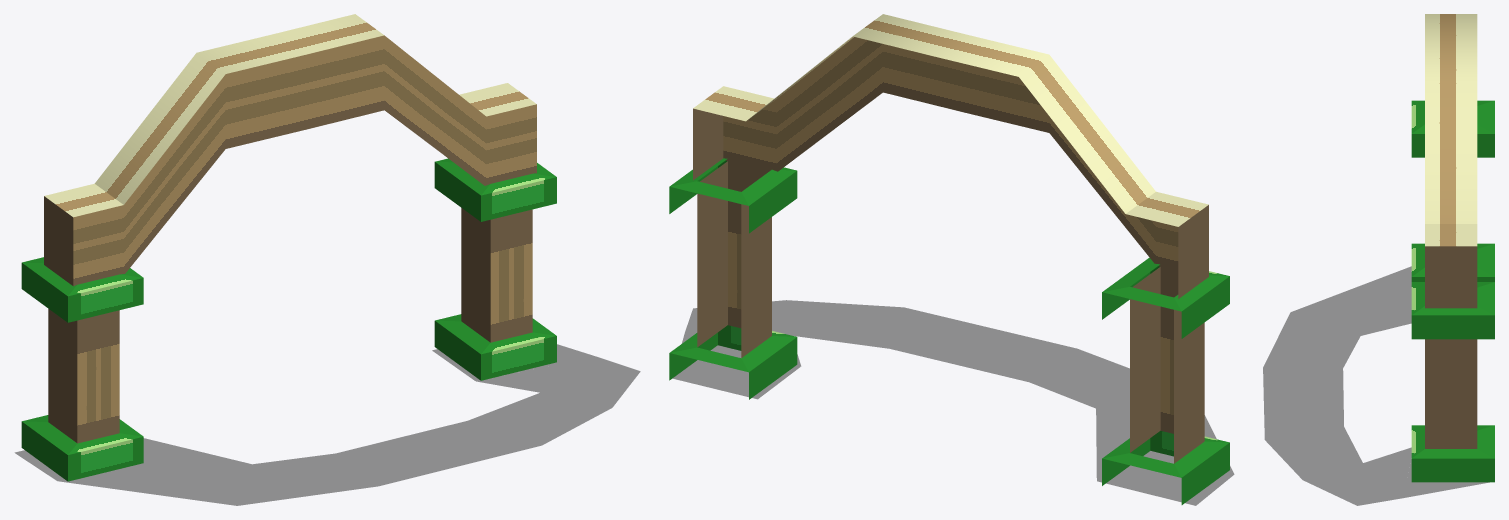
The model's file is Indigo_Plateau_Archway_mtl.glb.
3 views of the same model, side by side, from view 1: azimuth 30°, elevation 25°; view 2: azimuth 150°, elevation 25°; view 3: azimuth 270°, elevation 25° (orthographic). The views are drawn at different scales.
Parts seen in each view (by area): view 1: Indigo_Plateau_Archway_mtl; view 2: Indigo_Plateau_Archway_mtl; view 3: Indigo_Plateau_Archway_mtl.
Boxes of the visible parts, <box> form: Indigo_Plateau_Archway_mtl: <box>15,14,640,505</box>; Indigo_Plateau_Archway_mtl: <box>669,14,1234,505</box>; Indigo_Plateau_Archway_mtl: <box>1263,14,1494,505</box>.
Size of the model in its own units: 131 by 82.04 by 52.91.
Materials: 2 (2 with a texture image).
